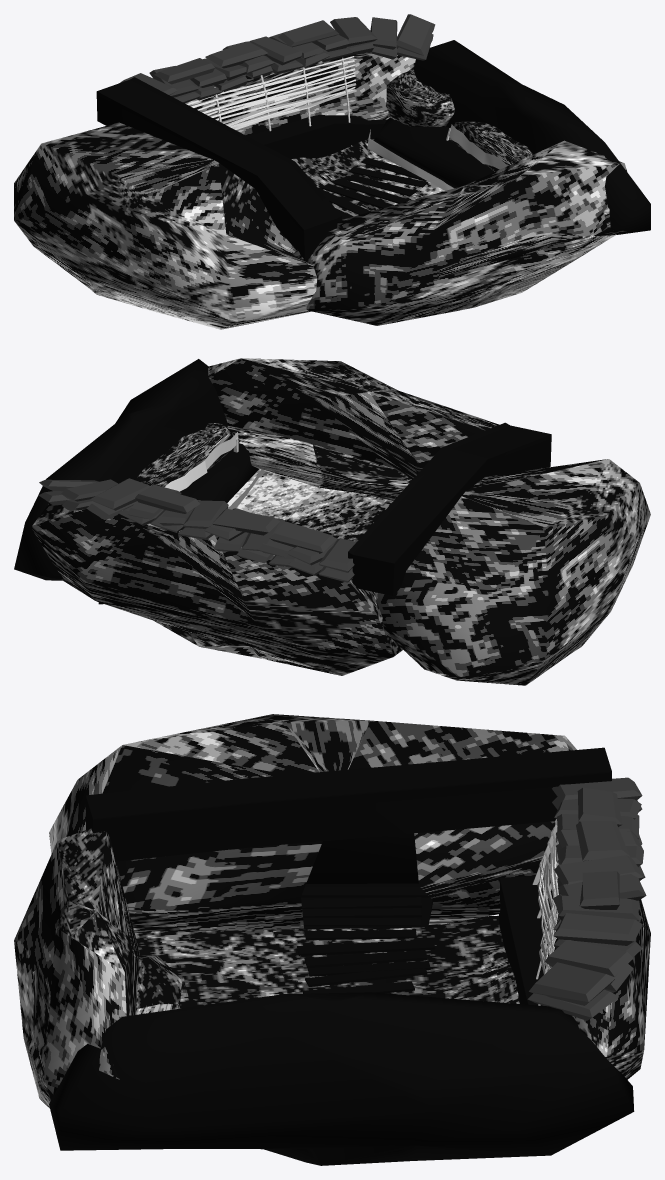
File: trench_3.fbx
The picture shows the model from 3 angles, top to bottom: view 1: azimuth 30°, elevation 25°; view 2: azimuth 150°, elevation 25°; view 3: azimuth 270°, elevation 25°; orthographic projection. The views are drawn at different scales.
Visible parts, largest first — view 1: polySurface125; view 2: polySurface125; view 3: polySurface125.
Boxes of the visible parts, box(x1,y1,x2,y2) form: polySurface125: box(14, 14, 650, 329); polySurface125: box(14, 358, 650, 685); polySurface125: box(14, 714, 650, 1165).
Bounding box in the file's own units: 23.34 × 6.23 × 17.73.
